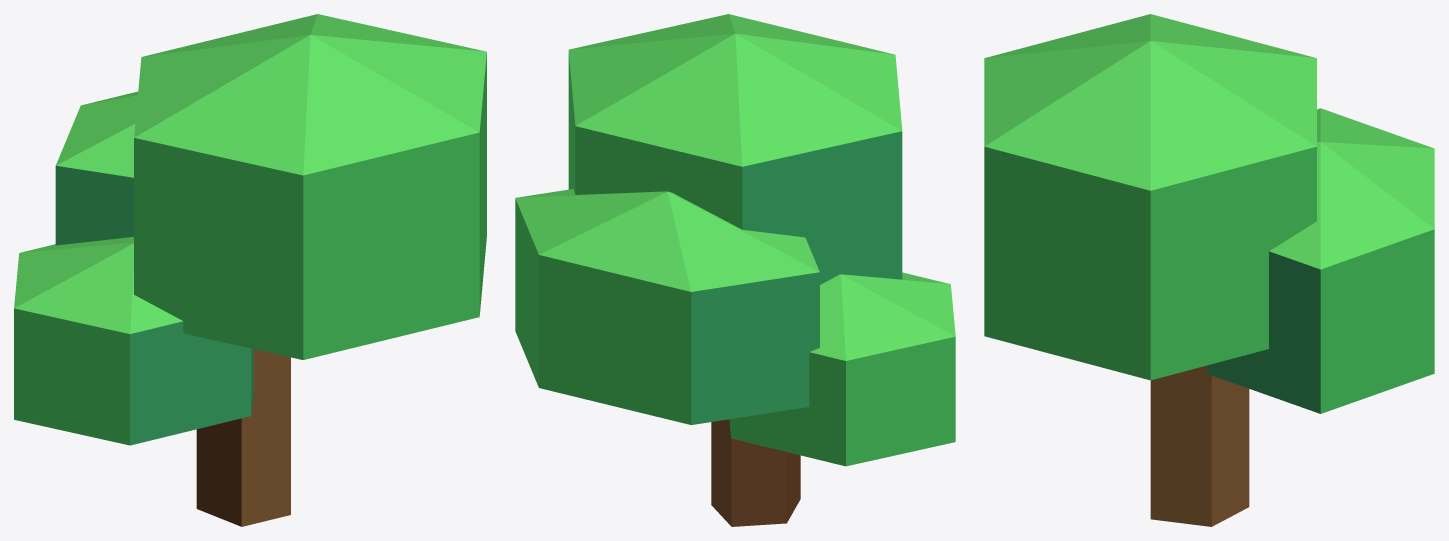
The model's file is Tree_1.gltf.
3 views of the same model, side by side, from view 1: azimuth 30°, elevation 25°; view 2: azimuth 150°, elevation 25°; view 3: azimuth 270°, elevation 25° (orthographic). The views are drawn at different scales.
Parts seen in each view (by area): view 1: sphere (×3), cylinder; view 2: sphere (×3), cylinder; view 3: sphere (×2), cylinder.
Boxes of the visible parts, left/top/right/bottom form: sphere (×3): left=14, top=14, right=486, bottom=445; cylinder: left=196, top=349, right=290, bottom=526; sphere (×3): left=515, top=14, right=955, bottom=466; cylinder: left=711, top=419, right=800, bottom=526; sphere (×2): left=984, top=14, right=1434, bottom=413; cylinder: left=1150, top=365, right=1249, bottom=526.
Size of the model in its own units: 0.625 by 0.6437 by 0.5379.
Materials: 1 (1 with a texture image).
